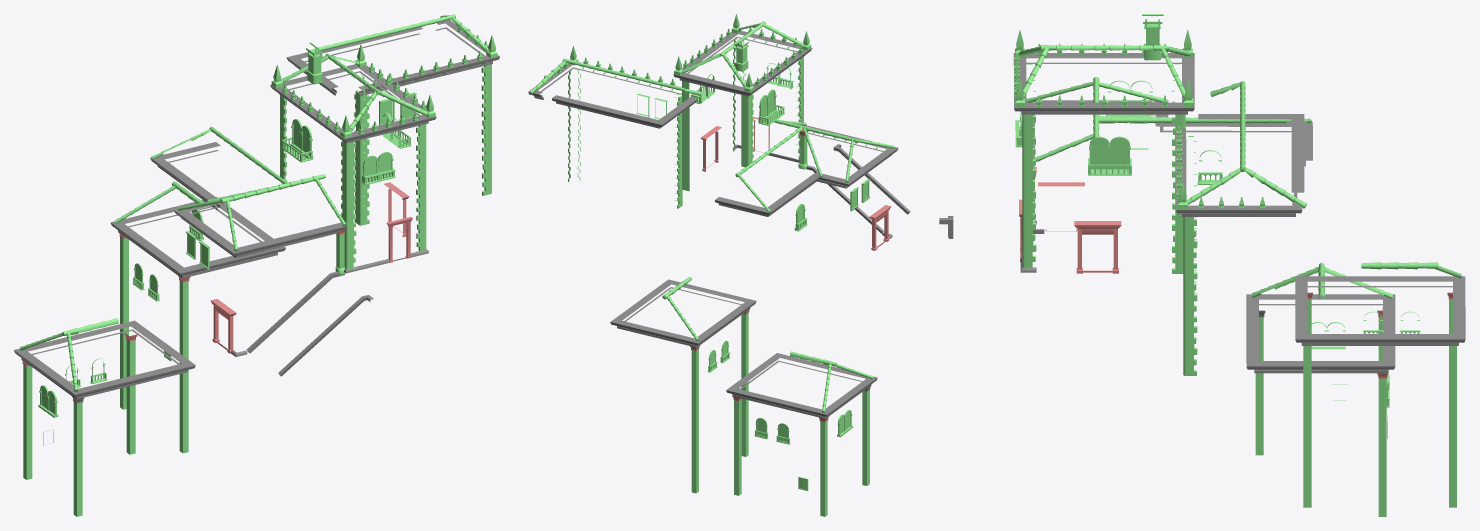
The model's file is S_Envi_Fyz_BuildingMerge_01c.gltf.
3 views of the same model, side by side, from view 1: azimuth 30°, elevation 25°; view 2: azimuth 150°, elevation 25°; view 3: azimuth 270°, elevation 25° (orthographic). The views are drawn at different scales.
Visible parts, largest first — view 1: S_Envi_Fyz_BuildingMerge_01c; view 2: S_Envi_Fyz_BuildingMerge_01c; view 3: S_Envi_Fyz_BuildingMerge_01c.
Part boxes in pixels (x1,y1,x2,y2): S_Envi_Fyz_BuildingMerge_01c: (14, 14, 499, 516); S_Envi_Fyz_BuildingMerge_01c: (528, 14, 910, 516); S_Envi_Fyz_BuildingMerge_01c: (939, 14, 1465, 516).
Bounding box in the file's own units: 34.68 × 38.02 × 32.69.
